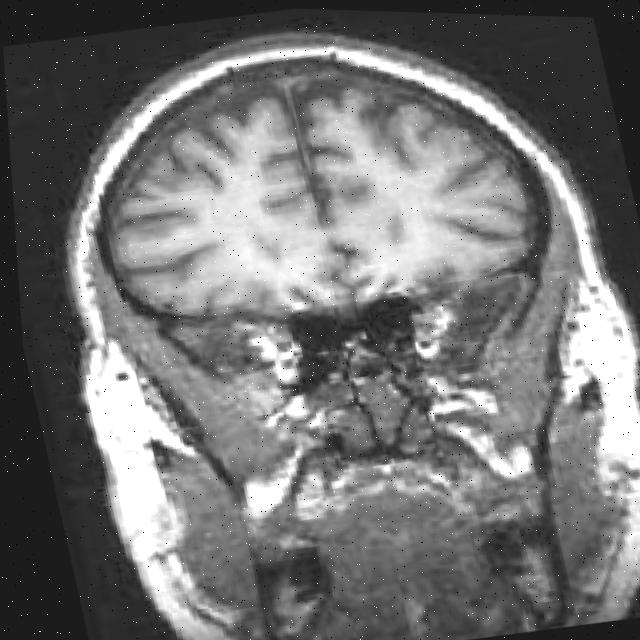NoTumor: (16, 0, 611, 368)
